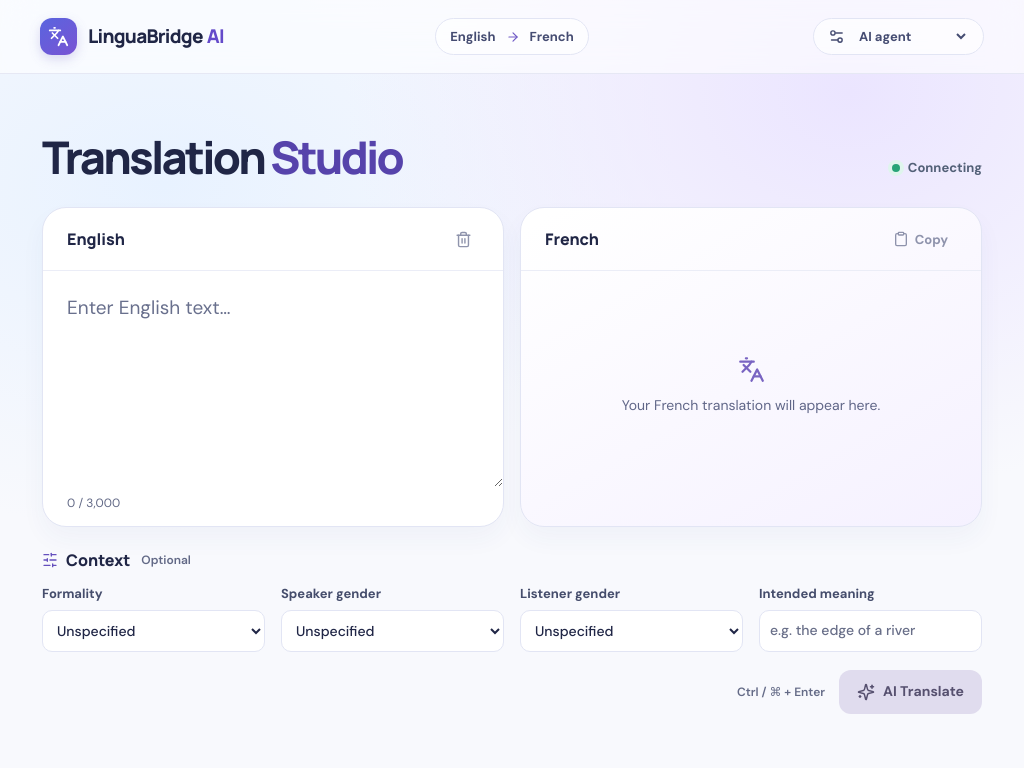
Test case: translation studio › supports MT-only requests without agent context or insights
The width and height of the screenshot is (1024, 768).
Select "MarianMT only" in the dropdown named "Translation mode" at (912, 36), box [855,27,969,46]
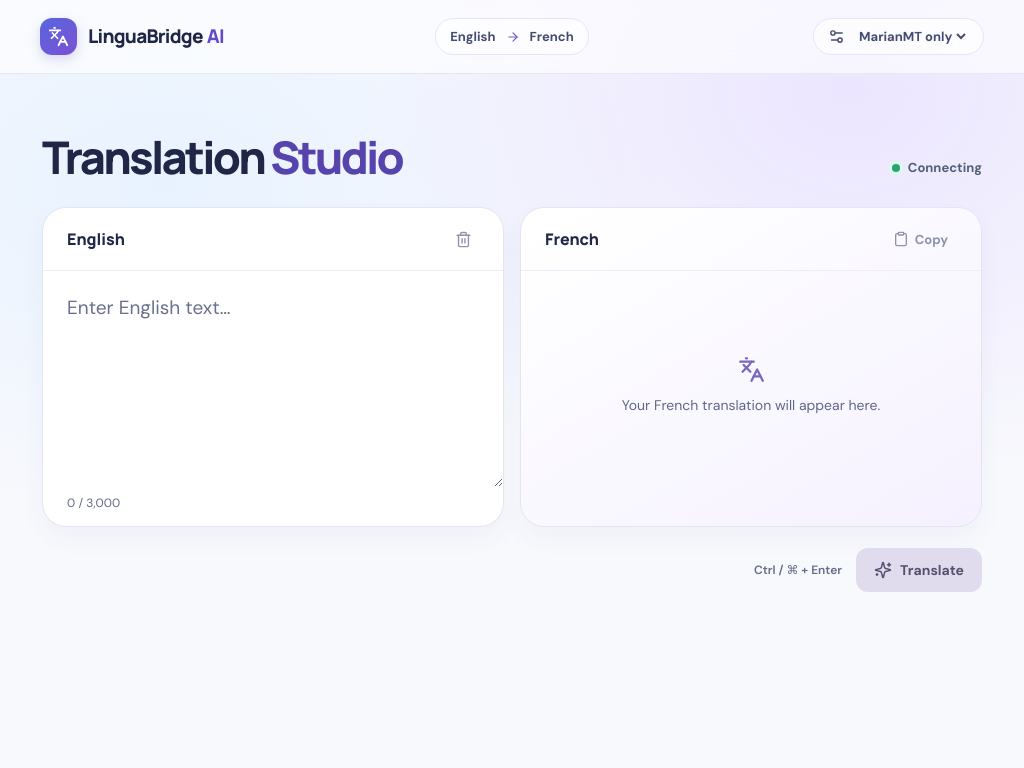
Type "Hello." into the text box labelled "English" at (273, 380), box [43,272,503,488]
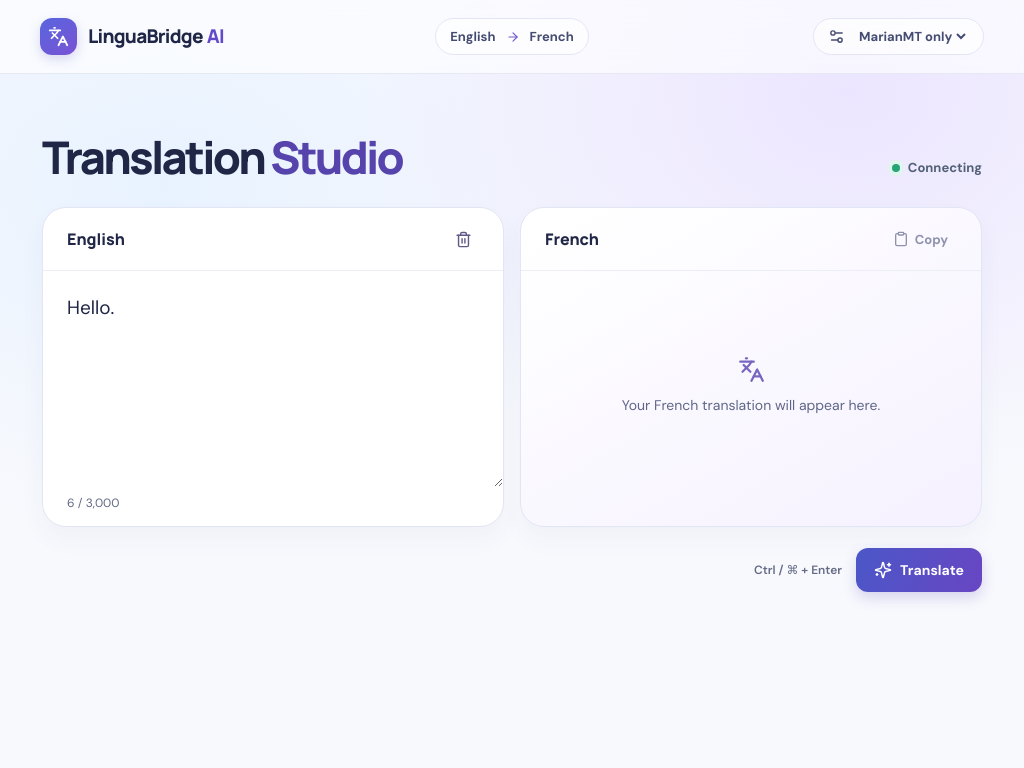
Click the button "Translate" at (919, 570), box [856,548,982,592]
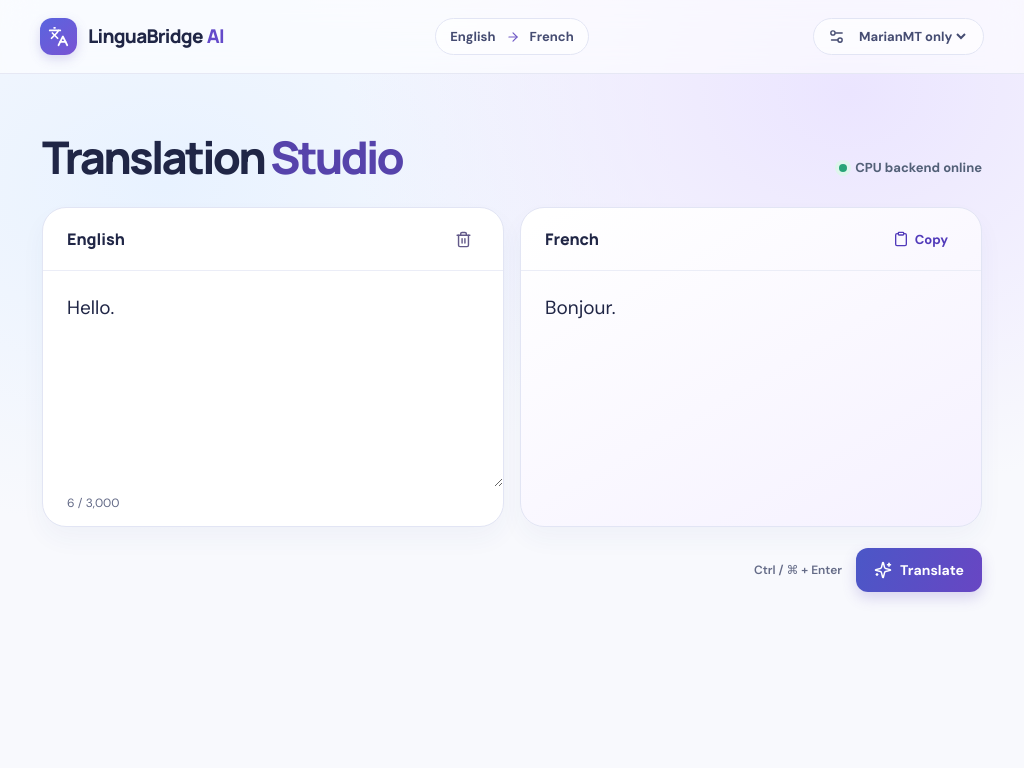
Expected: the label labelled "Formality" is not shown
Result: the text "Bonjour." is shown at [545,294,615,324]
